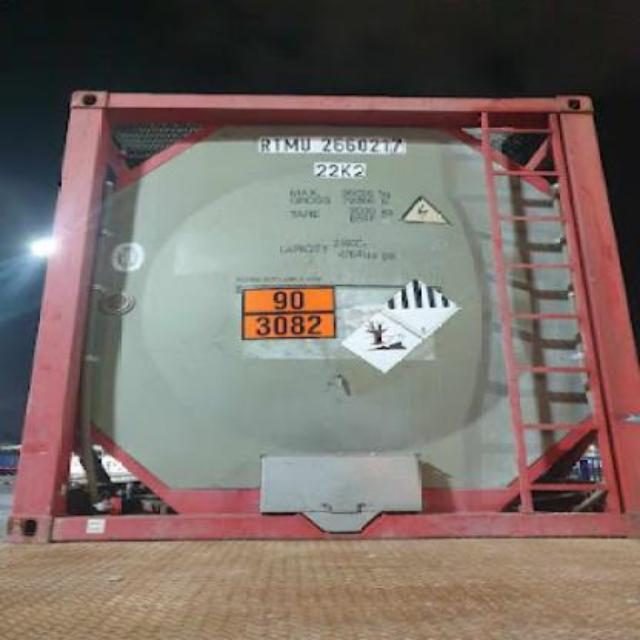0: (356, 135, 368, 155)
1: (380, 132, 390, 158)
2: (318, 134, 330, 154), (368, 134, 378, 156)
6: (342, 130, 354, 154), (332, 132, 342, 154)
7: (390, 134, 400, 156)
M: (282, 134, 298, 156)
R: (256, 135, 270, 155)
T: (270, 134, 282, 154)
U: (300, 132, 310, 154)
